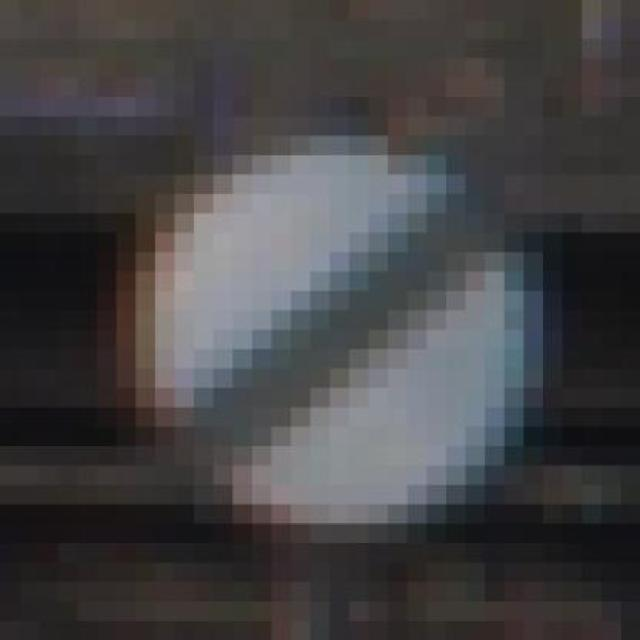End of all speed and passing limits: (116, 116, 562, 524)
